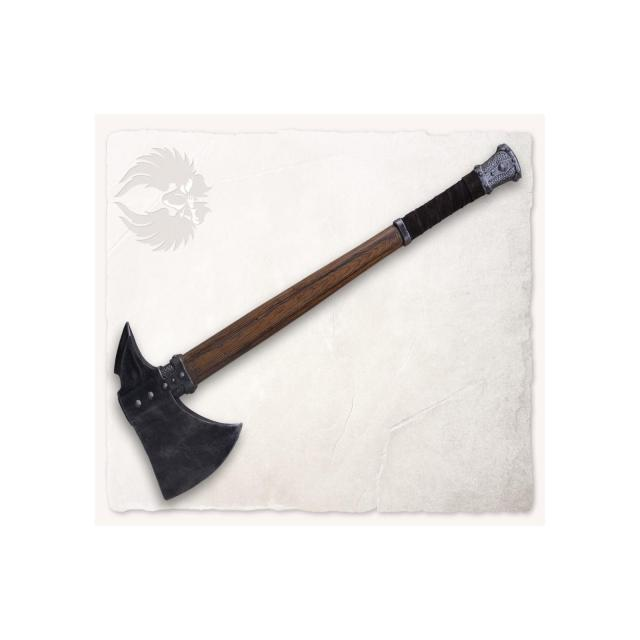Kapak: (128, 137, 487, 508)
